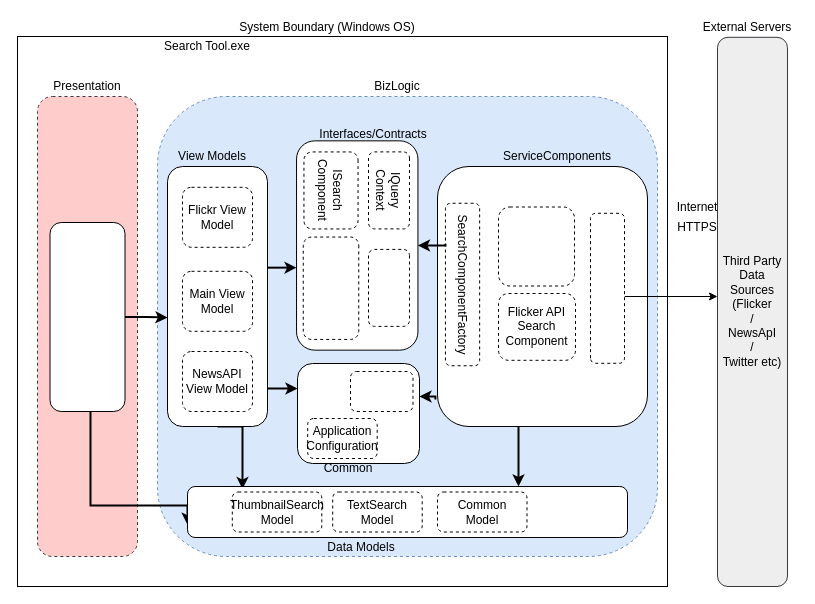
The diagram is 815 pixels wide and 604 high, and some of its shapes have lost their labels. Here are the shapes that lost their labels. From the top down, the centre of each, then its label:
At point (536, 246): "NewsAPI Search Component".
At point (330, 288): "AbstractSearch ComponentFactory".
At point (389, 287): "IResponse Context".
At point (607, 287): "HTTPAPIHelper".
At point (87, 317): "SearchTool XAML".
At point (381, 391): "Logger".
